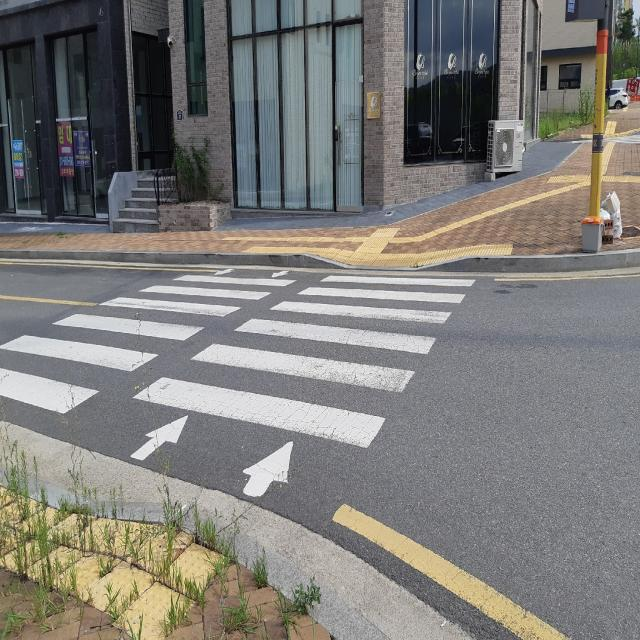횡단보도: (0, 263, 478, 503)
